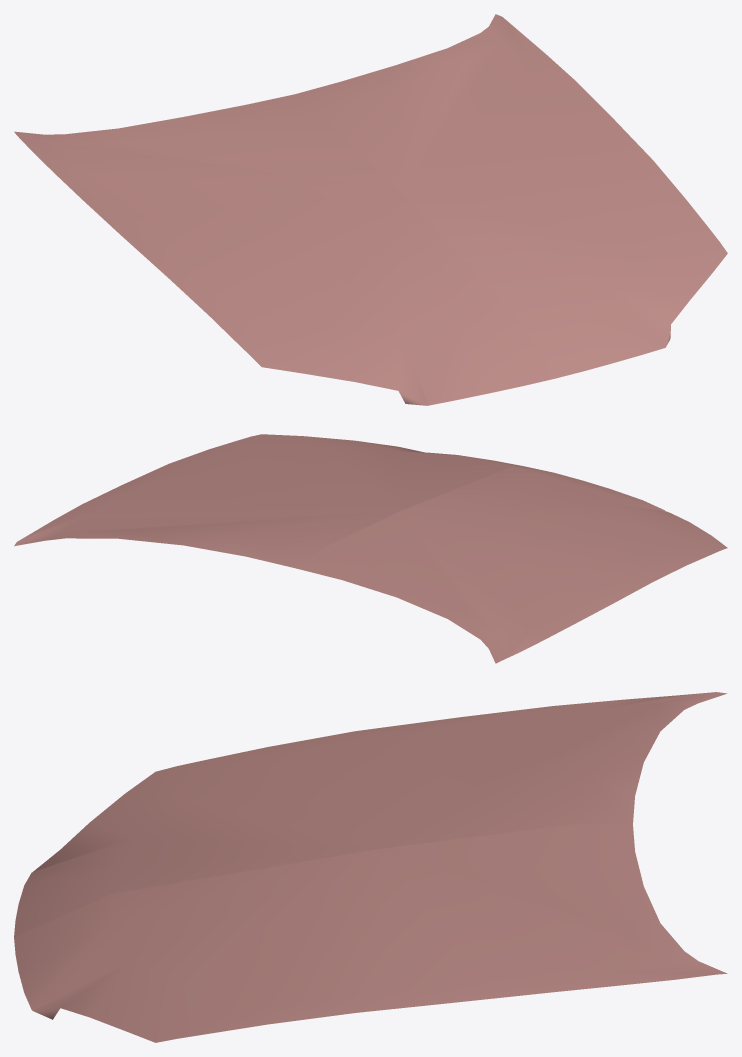
Rendered from R34_Bonnet02_Trim.fbx.
3 renders of one model, top to bottom at view 1: azimuth 30°, elevation 25°; view 2: azimuth 150°, elevation 25°; view 3: azimuth 270°, elevation 25°, orthographic. The views are drawn at different scales.
Visible parts, largest first — view 1: R34_Bonnet02_Trim; view 2: R34_Bonnet02_Trim; view 3: R34_Bonnet02_Trim.
Boxes of the visible parts, x1,y1,x2,y2 form: R34_Bonnet02_Trim: (14, 14, 727, 405); R34_Bonnet02_Trim: (14, 434, 727, 663); R34_Bonnet02_Trim: (14, 692, 727, 1042).
Size of the model in its own units: 145 by 28.02 by 152.
